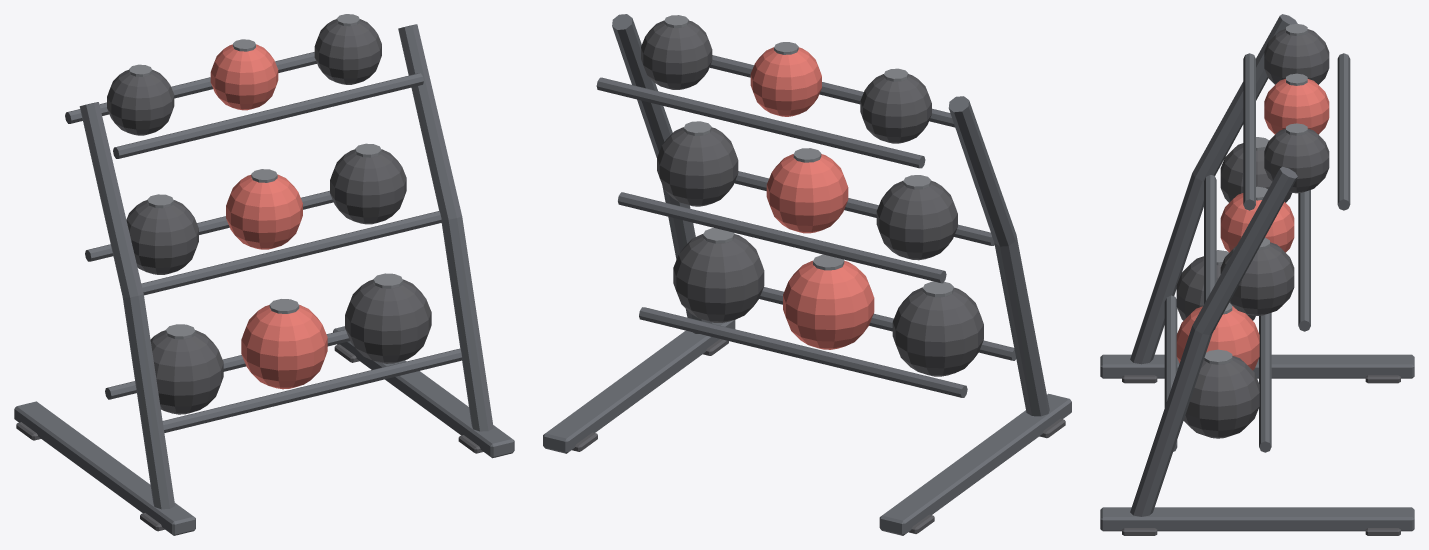
The model's file is medicine_ball_rack.glb.
3 renders of one model, left to right at view 1: azimuth 30°, elevation 25°; view 2: azimuth 150°, elevation 25°; view 3: azimuth 270°, elevation 25°, orthographic. The views are drawn at different scales.
Parts seen in each view (by area): view 1: medicine-ball-rack; view 2: medicine-ball-rack; view 3: medicine-ball-rack.
Part boxes in pixels (x1,y1,x2,y2): medicine-ball-rack: [14, 14, 514, 535]; medicine-ball-rack: [543, 14, 1071, 535]; medicine-ball-rack: [1100, 14, 1414, 535].
Bounding box in the file's own units: 1.02 × 1.05 × 0.8.
